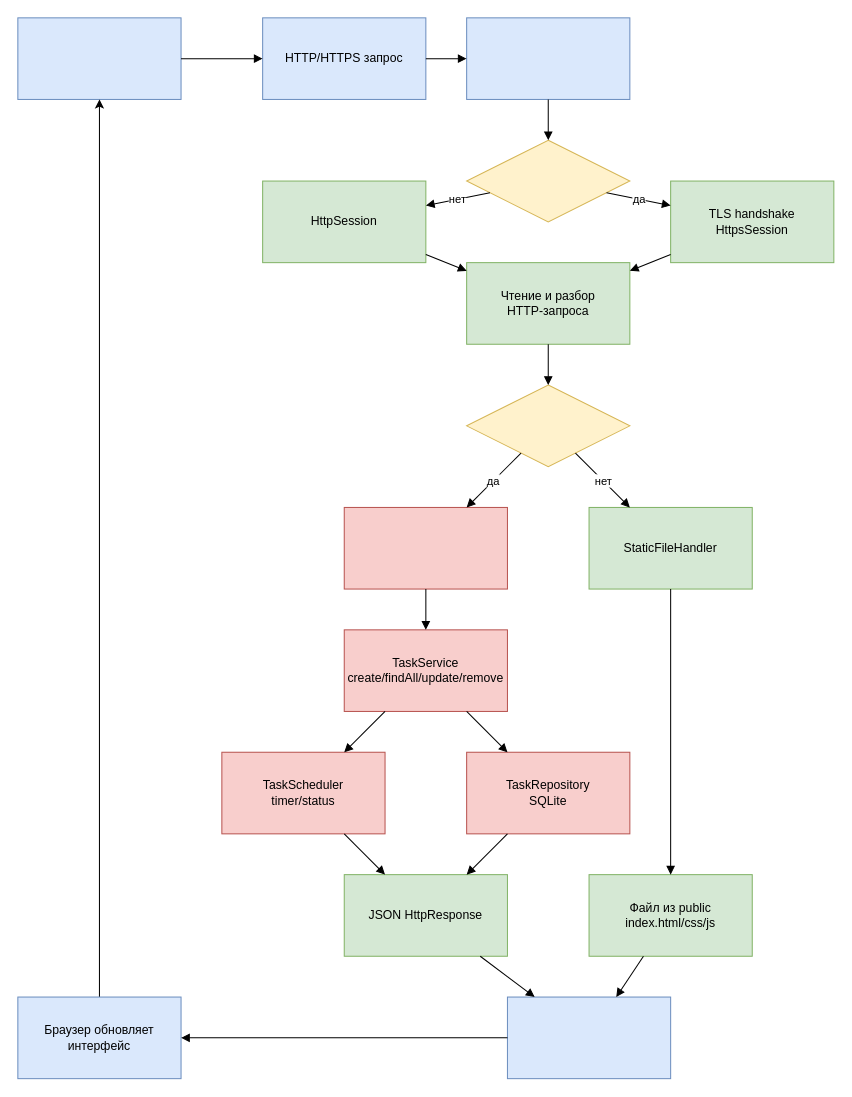
This 852x1097 diagram has some shape labels left out. Here are the shapes that lost their labels. From the top down, the box of each, then its label:
(17, 17, 181, 99): Браузер
(466, 17, 630, 99): HttpWebServer / HttpsWebServer acceptLoop()
(466, 139, 630, 222): HTTPS?
(466, 384, 630, 467): Путь /api/?
(343, 506, 507, 589): TaskApiHandler parseRoute()
(506, 996, 671, 1079): Сессия отправляет HTTP-ответ
